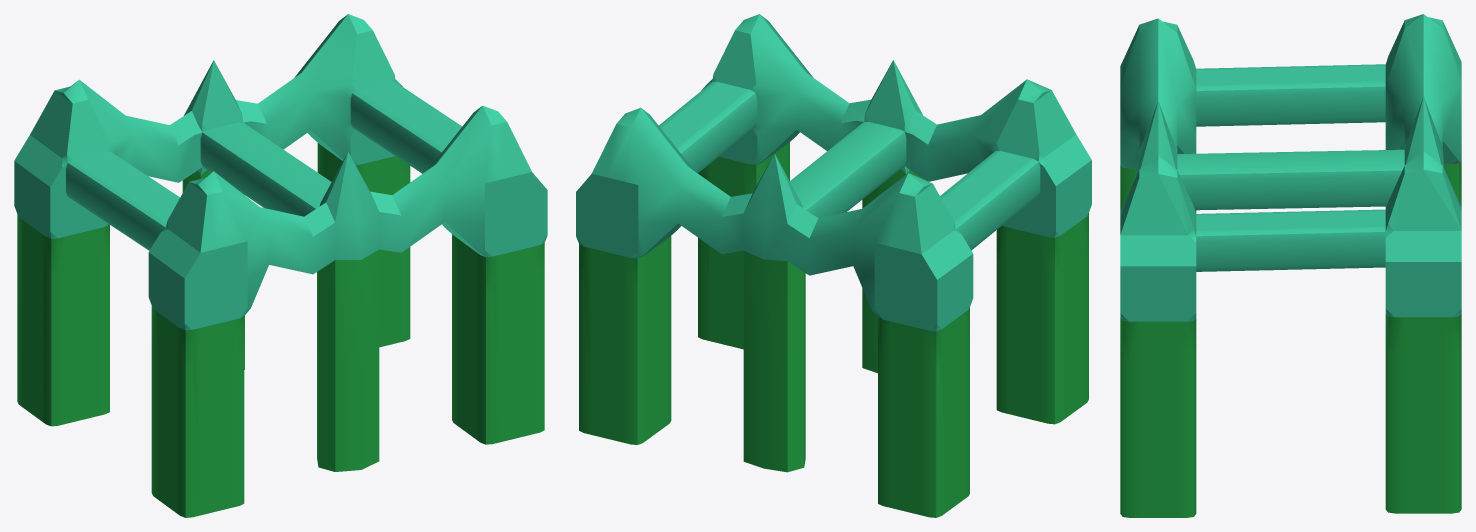
The model's file is Ruins 11.fbx.
3 views of the same model, side by side, from view 1: azimuth 30°, elevation 25°; view 2: azimuth 150°, elevation 25°; view 3: azimuth 270°, elevation 25° (orthographic). The views are drawn at different scales.
Parts seen in each view (by area): view 1: Ruins 11; view 2: Ruins 11; view 3: Ruins 11.
Boxes of the visible parts, bbox=[...] form: Ruins 11: bbox=[14, 14, 547, 517]; Ruins 11: bbox=[576, 14, 1091, 517]; Ruins 11: bbox=[1120, 14, 1461, 517].
Bounding box in the file's own units: 59.07 × 49.36 × 45.03.
Materials: 3 (2 with a texture image).
